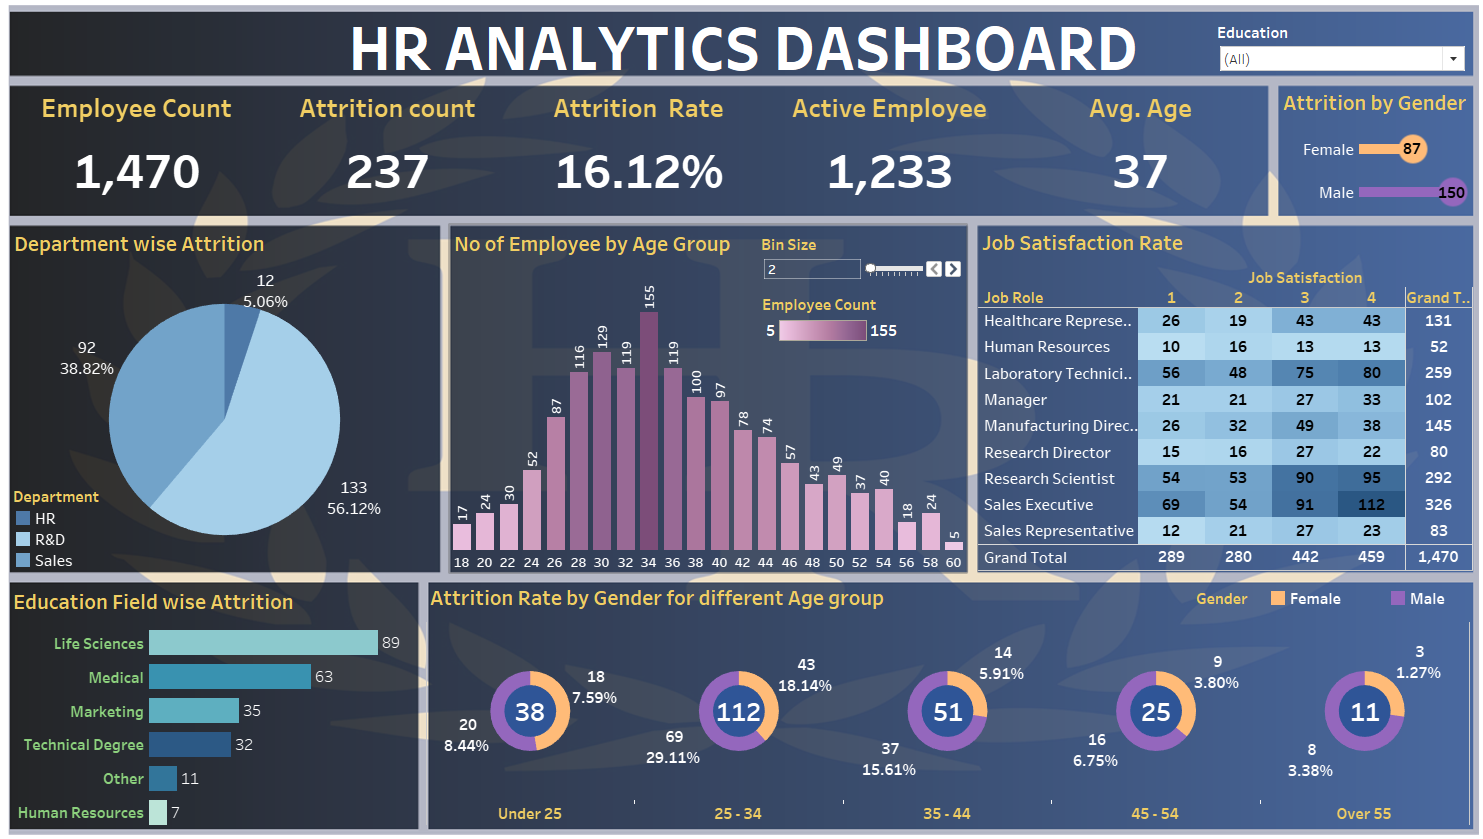

What the dashboard file says about the page in this screenshot:
{"tool":"tableau","page":{"name":"HR DASH","canvas":[1500,900],"ordinal":0},"visuals":[{"type":"image","param":"Image/HR background55.png","box":[8,8,1484,884]},{"type":"text","box":[354,43,970,65]},{"type":"filter","title":"Department wise Attrition","param":"[federated.1tgj1po1u8nupb1cbrs3u0riv8ga].[none:Education:nk]","box":[1226,52,251,51]},{"type":"worksheet","title":"KPI","mark":"Automatic","box":[20,114,1255,130]},{"type":"worksheet","title":"Attrition by Gender","mark":"Automatic","rows":["Gender"],"cols":["Calculation_3037677963152408576","Calculation_3037677963152408576"],"box":[1288,114,193,130]},{"type":"worksheet","title":"Job Satisfaction Rate","mark":"Square","rows":["Job Role"],"cols":["Job Satisfaction"],"box":[987,254,495,347]},{"type":"worksheet","title":"Department wise Attrition","mark":"Pie","box":[19,255,429,346]},{"type":"worksheet","title":"No of Employee by Age Group","mark":"Automatic","rows":["Employee Count"],"cols":["Age (bin)"],"box":[459,255,516,347]},{"type":"parameter","param":"[Parameters].[Parameter 1]","box":[770,264,203,66]},{"type":"legend","title":"No of Employee by Age Group","param":"[federated.1tgj1po1u8nupb1cbrs3u0riv8ga].[sum:Employee Count:qk]","box":[771,324,140,88]},{"type":"legend","title":"Department wise Attrition","param":"[federated.1tgj1po1u8nupb1cbrs3u0riv8ga].[none:Department:nk]","box":[22,516,140,85]},{"type":"worksheet","title":"Attrition Rate by Gender for different Age group","mark":"Pie","rows":["Calculation_2566488852234883073","Calculation_2566488852234883073"],"cols":["CF_age band"],"box":[435,609,1044,247]},{"type":"worksheet","title":"Education Field wise Attrition","mark":"Automatic","rows":["Education Field"],"cols":["Calculation_3037677963152408576"],"box":[18,613,408,246]}]}

Visuals, with their boxes in screenshot pixels (x1, y1, x2, y2):
image: 8,0,1473,838
text: 349,12,1307,76
"Department wise Attrition" filter: 1210,20,1458,71
"KPI" worksheet: 20,82,1258,210
"Attrition by Gender" worksheet: 1271,82,1462,210
"Job Satisfaction Rate" worksheet (Square marks): 974,220,1463,562
"Department wise Attrition" worksheet (Pie marks): 19,221,442,562
"No of Employee by Age Group" worksheet: 453,221,962,563
parameter: 760,230,960,295
"No of Employee by Age Group" legend: 761,289,899,376
"Department wise Attrition" legend: 22,478,160,562
"Attrition Rate by Gender for different Age group" worksheet (Pie marks): 429,570,1460,814
"Education Field wise Attrition" worksheet: 18,574,420,817
